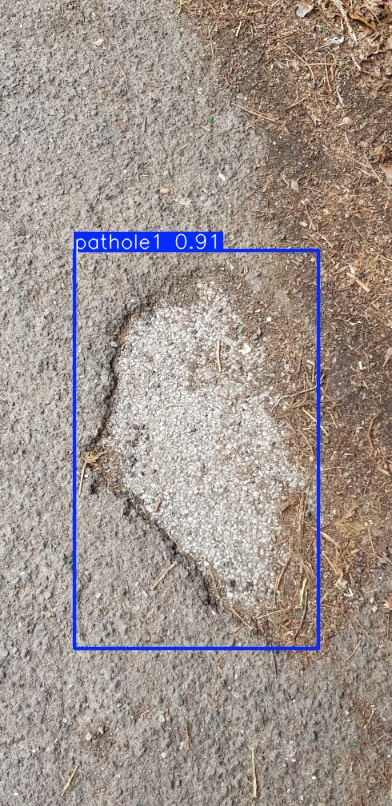pothole: (76, 259, 348, 664)
